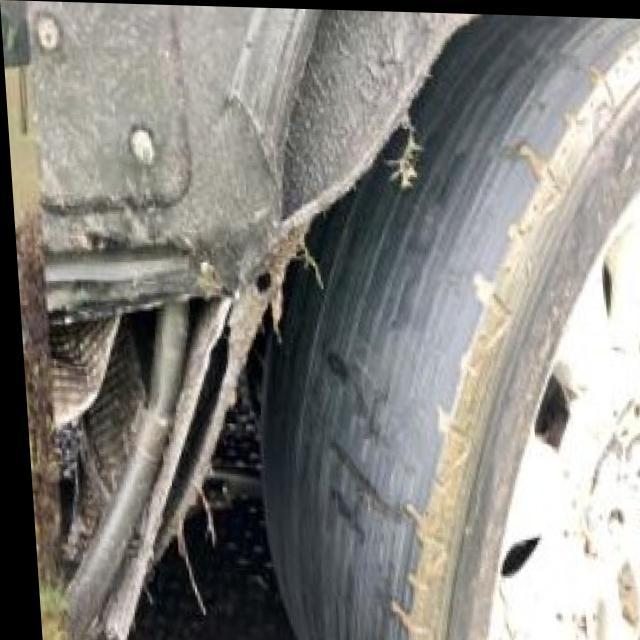Flat spots: (280, 292, 413, 638), (338, 184, 515, 284), (450, 20, 552, 178)
